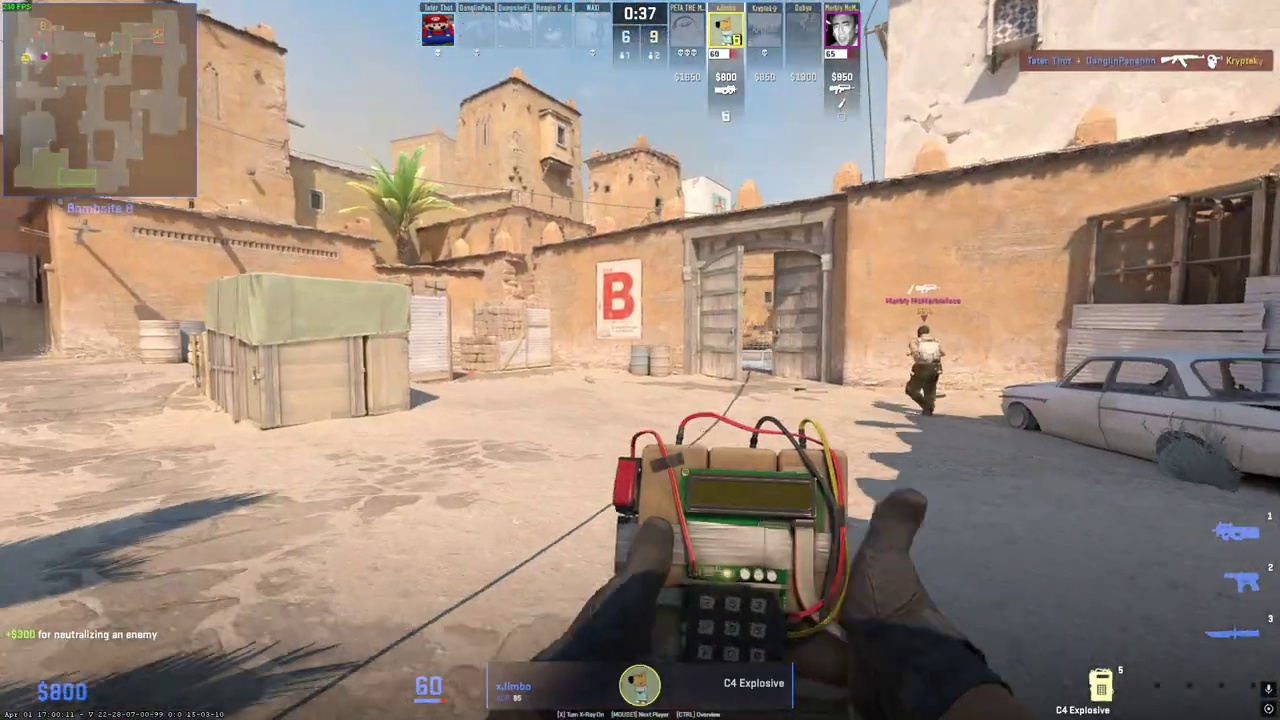Terrorist: (905, 325, 944, 415)
